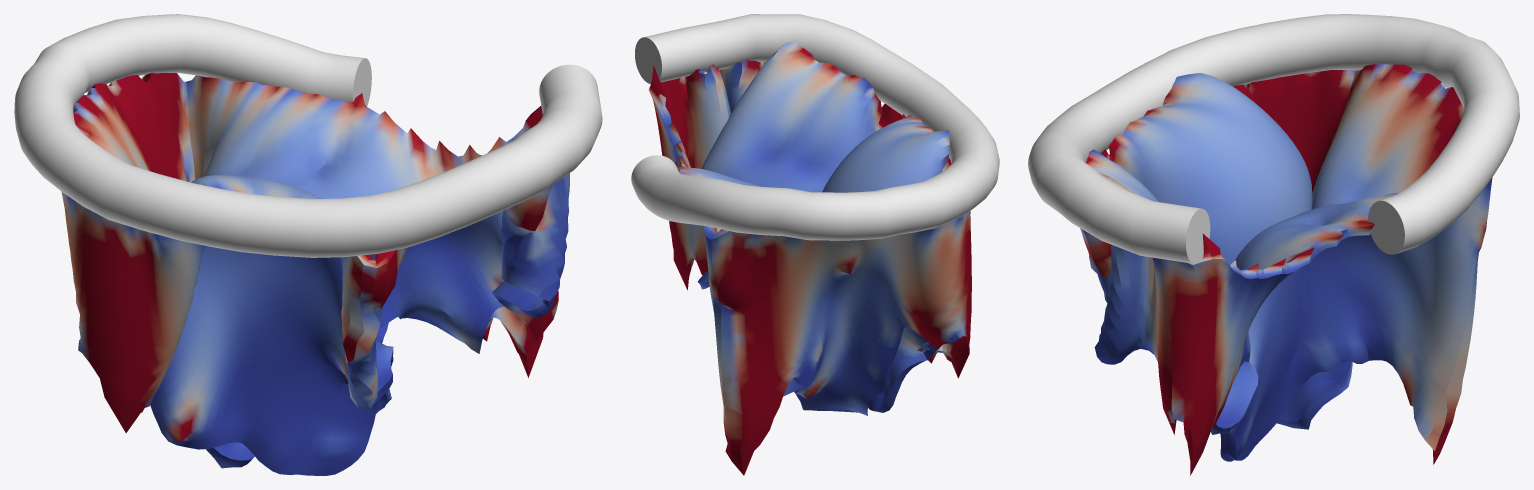
The model's file is AR_Model_4_Android.glb.
3 views of the same model, side by side, from view 1: azimuth 30°, elevation 25°; view 2: azimuth 150°, elevation 25°; view 3: azimuth 270°, elevation 25° (orthographic). The views are drawn at different scales.
Visible parts, largest first — view 1: OCS14_PM_3040_MPS_250, PhysioTri_ring; view 2: OCS14_PM_3040_MPS_250, PhysioTri_ring; view 3: OCS14_PM_3040_MPS_250, PhysioTri_ring.
Boxes of the visible parts, bbox=[...] form: OCS14_PM_3040_MPS_250: bbox=[61, 73, 569, 475]; PhysioTri_ring: bbox=[14, 14, 602, 257]; OCS14_PM_3040_MPS_250: bbox=[648, 42, 971, 475]; PhysioTri_ring: bbox=[631, 14, 999, 240]; OCS14_PM_3040_MPS_250: bbox=[1080, 63, 1492, 475]; PhysioTri_ring: bbox=[1028, 14, 1519, 263].
Size of the model in its own units: 0.3423 by 0.2619 by 0.3166.
